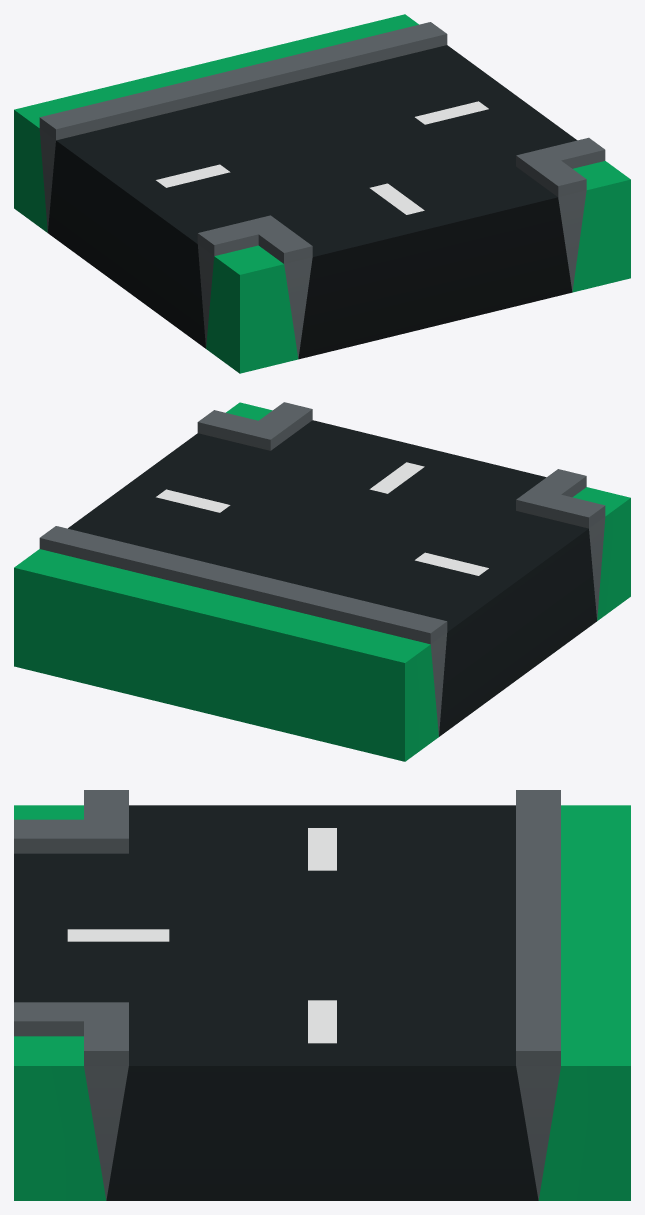
Rendered from CRUCE DE TRES.fbx.
3 views of the same model, one above another, from view 1: azimuth 30°, elevation 25°; view 2: azimuth 150°, elevation 25°; view 3: azimuth 270°, elevation 25° (orthographic). The views are drawn at different scales.
Parts seen in each view (by area): view 1: tres.006; view 2: tres.006; view 3: tres.006.
Part boxes in pixels (left/top/right/bottom): tres.006: left=14, top=14, right=630, bottom=373; tres.006: left=14, top=402, right=630, bottom=761; tres.006: left=14, top=790, right=630, bottom=1200.
Bounding box in the file's own units: 900 × 900 × 242.
Materials: 1 (1 with a texture image).
